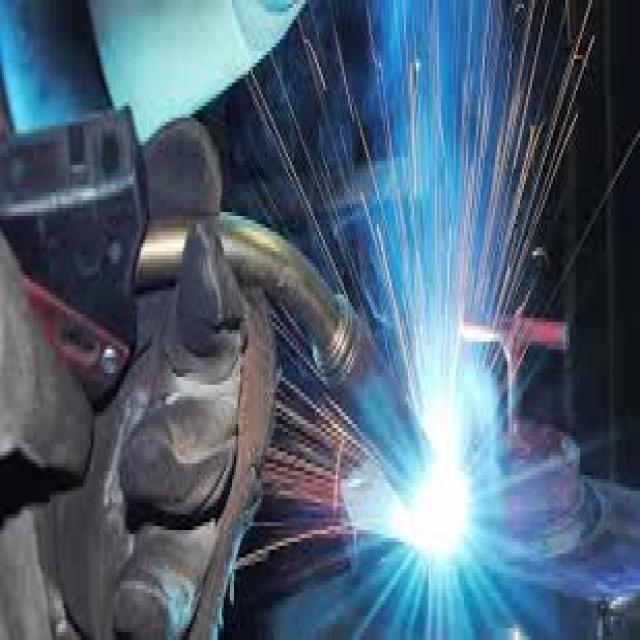welding: (405, 458, 471, 558)
